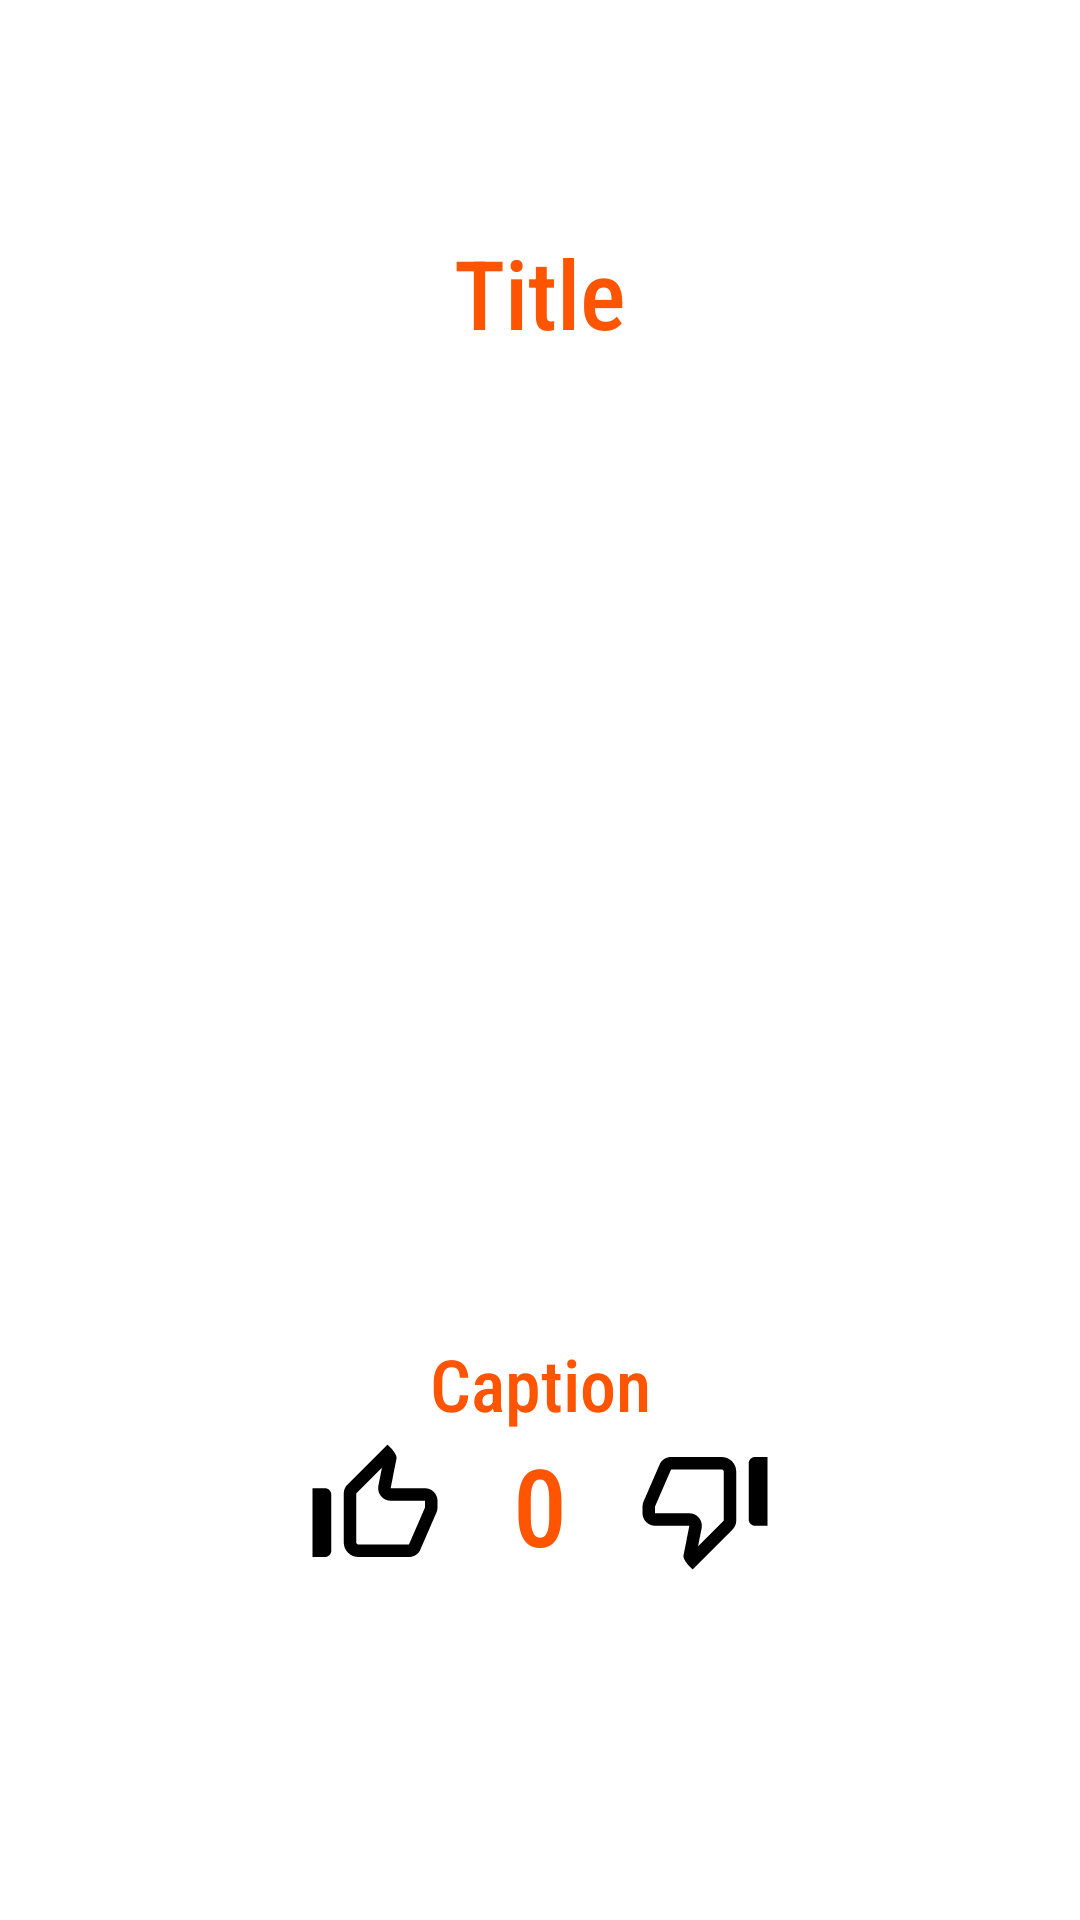

Point at icon controls on the screen. Image size 1080w x 1920h, points as (x,y).
thumb down off: (705,1513)
thumb up off: (375,1500)
